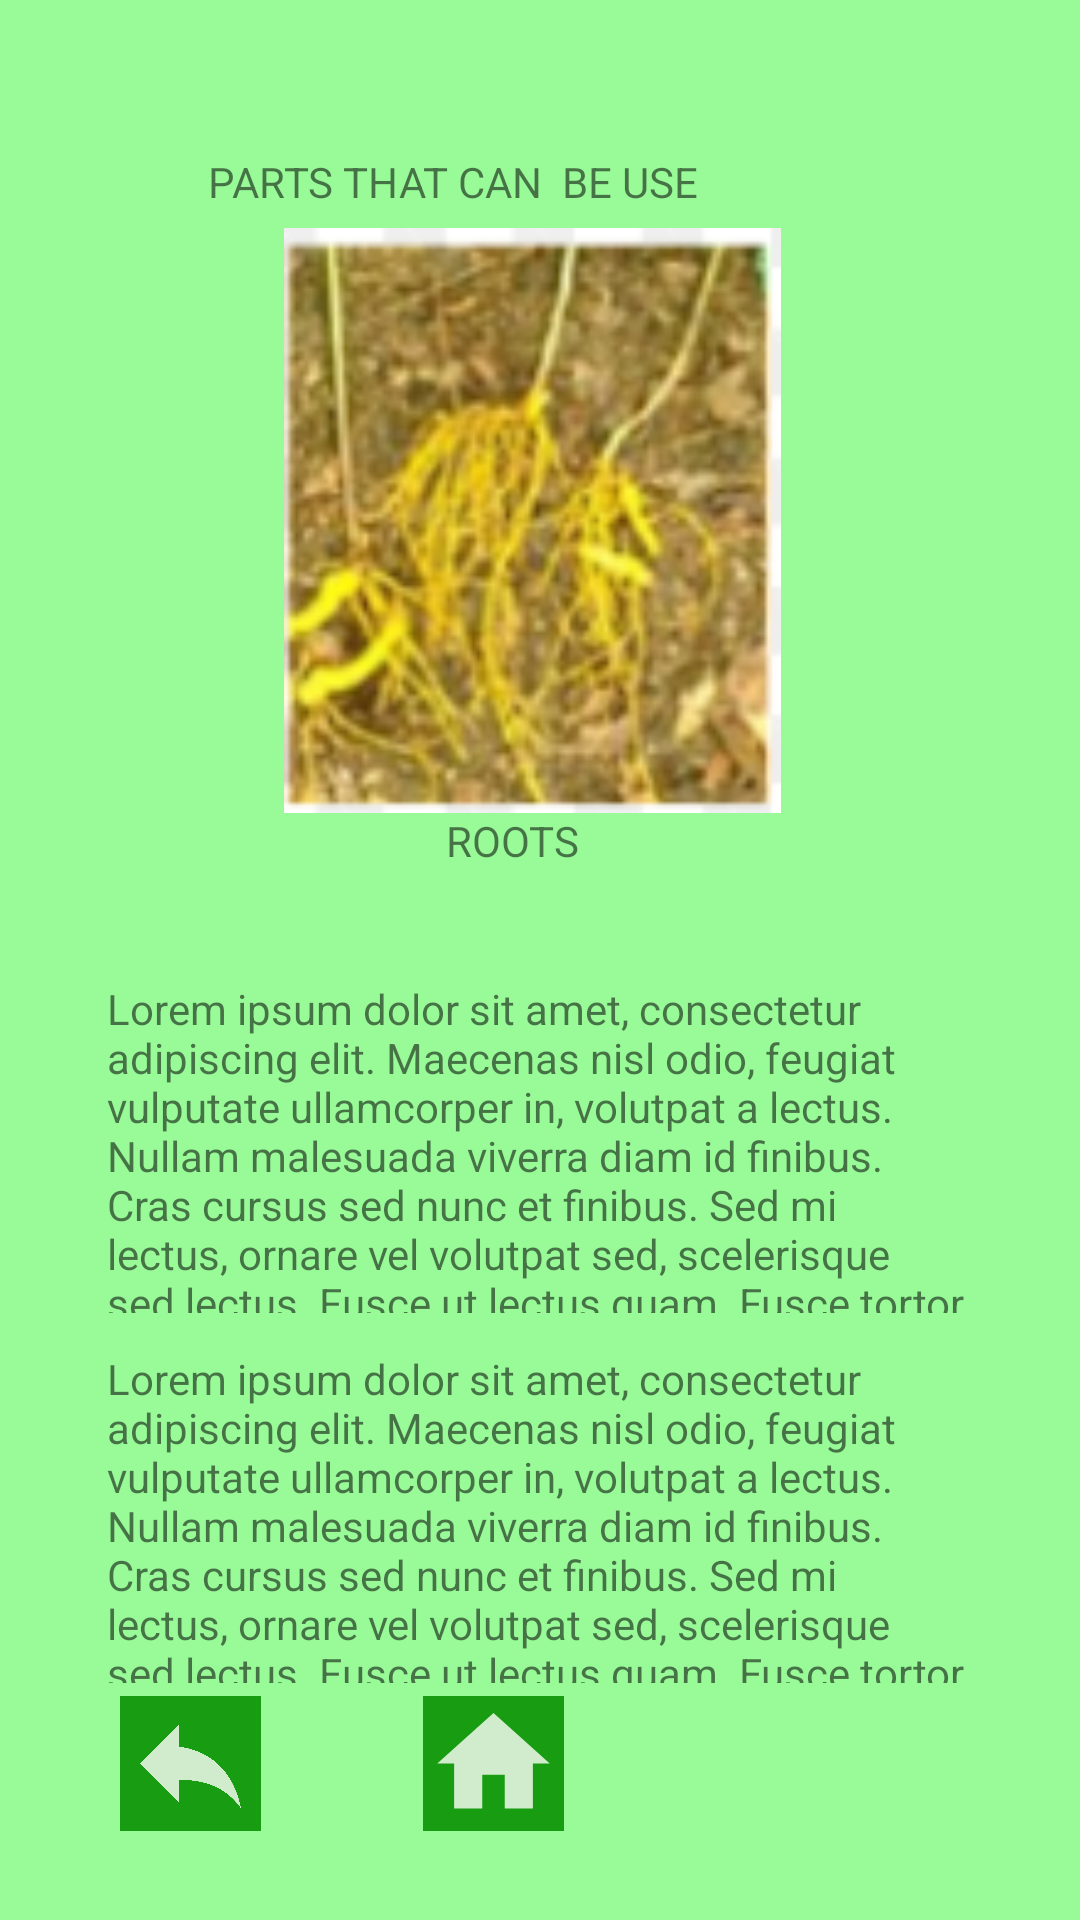

Where icons sit on this 1080px×1920px app screen, as (x1, y1, x2, y2):
home: (423, 1696, 564, 1831)
reply: (120, 1696, 261, 1831)
